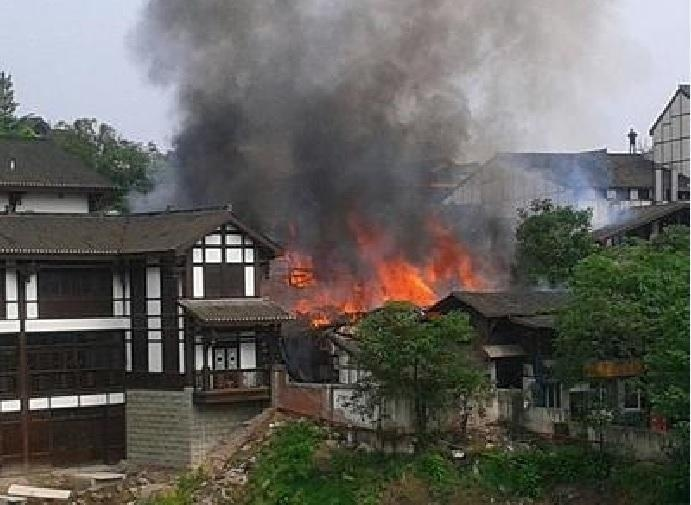fire: (283, 221, 489, 325)
